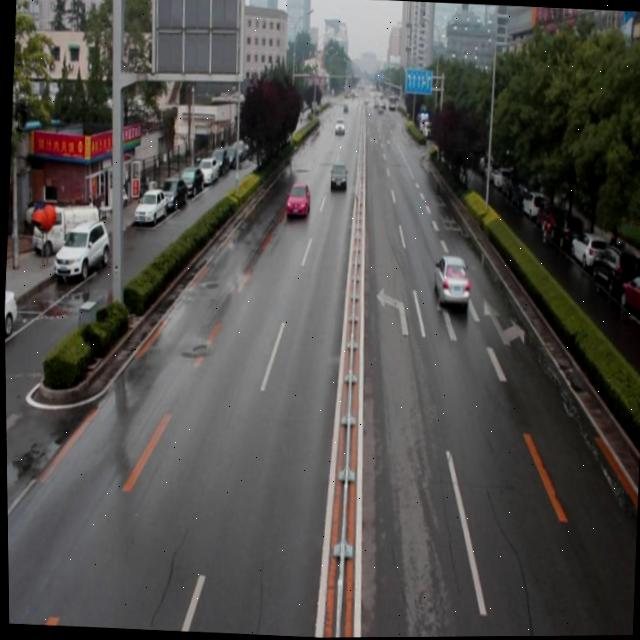car: (429, 251, 471, 308), (283, 181, 311, 217), (327, 162, 348, 193)
